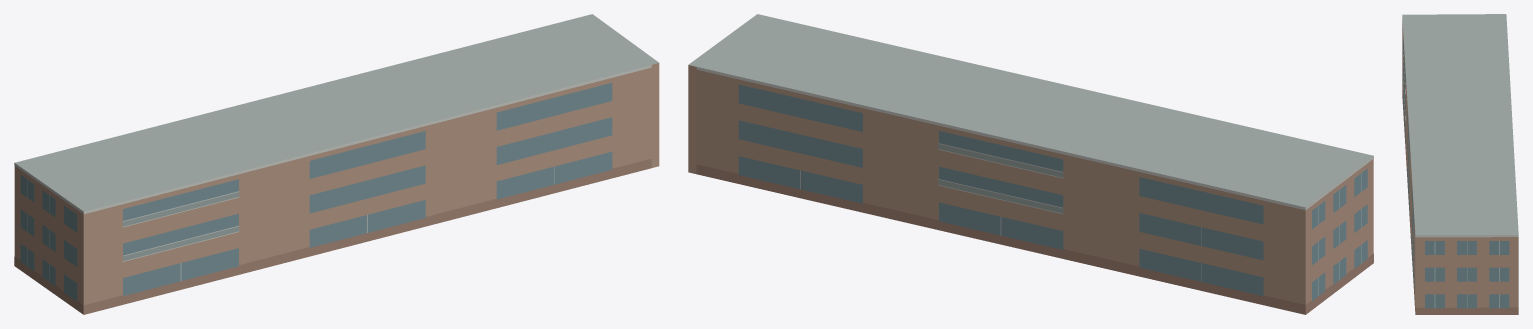
File: survey-upis-32736852.glb
3 views of the same model, side by side, from view 1: azimuth 30°, elevation 25°; view 2: azimuth 150°, elevation 25°; view 3: azimuth 270°, elevation 25° (orthographic). The views are drawn at different scales.
Parts seen in each view (by area): view 1: survey-upis-32736852.tmp; view 2: survey-upis-32736852.tmp; view 3: survey-upis-32736852.tmp.
Part boxes in pixels (x1,y1,x2,y2): survey-upis-32736852.tmp: [14, 14, 659, 314]; survey-upis-32736852.tmp: [688, 14, 1373, 314]; survey-upis-32736852.tmp: [1402, 14, 1518, 314].
Size of the model in its own units: 54.32 by 9.15 by 12.09.
